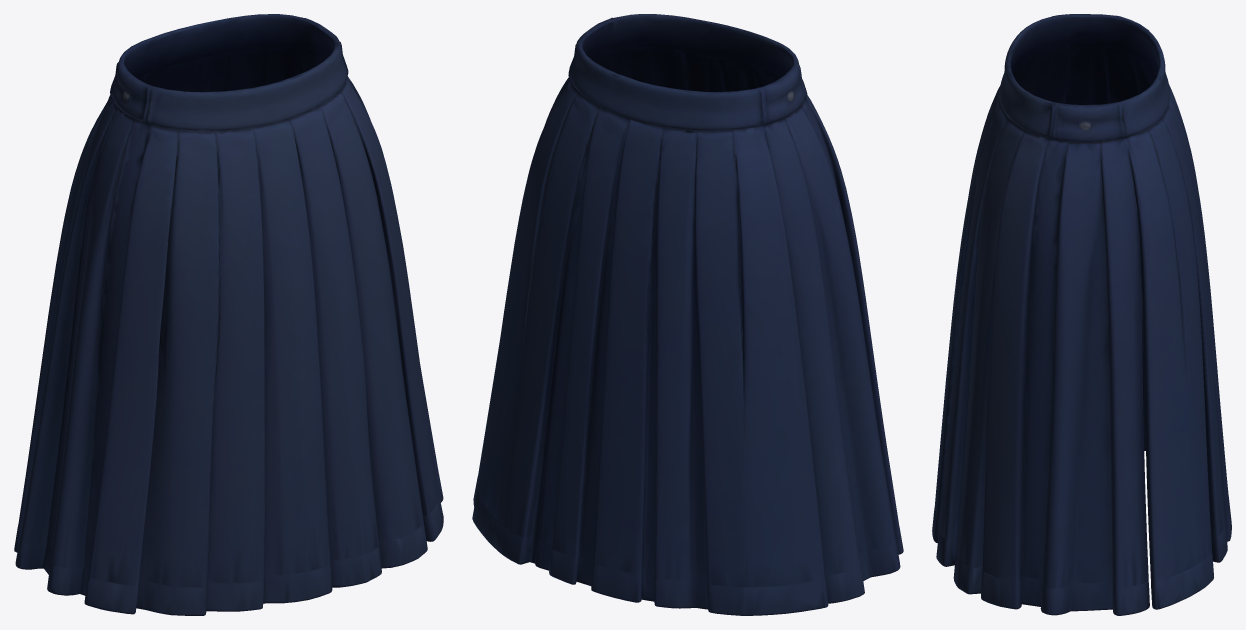
Rendered from school_skirt_v2_full.obj.
The picture shows the model from 3 angles, left to right: view 1: azimuth 30°, elevation 25°; view 2: azimuth 150°, elevation 25°; view 3: azimuth 270°, elevation 25°; orthographic projection. The views are drawn at different scales.
Parts seen in each view (by area): view 1: node_0; view 2: node_0; view 3: node_0.
Part boxes in pixels (<box>): node_0: <box>14,14,443,615</box>; node_0: <box>472,14,903,615</box>; node_0: <box>932,14,1231,615</box>.
Bounding box in the file's own units: 78.34 × 93.67 × 53.75.
Materials: 1 (1 with a texture image).
